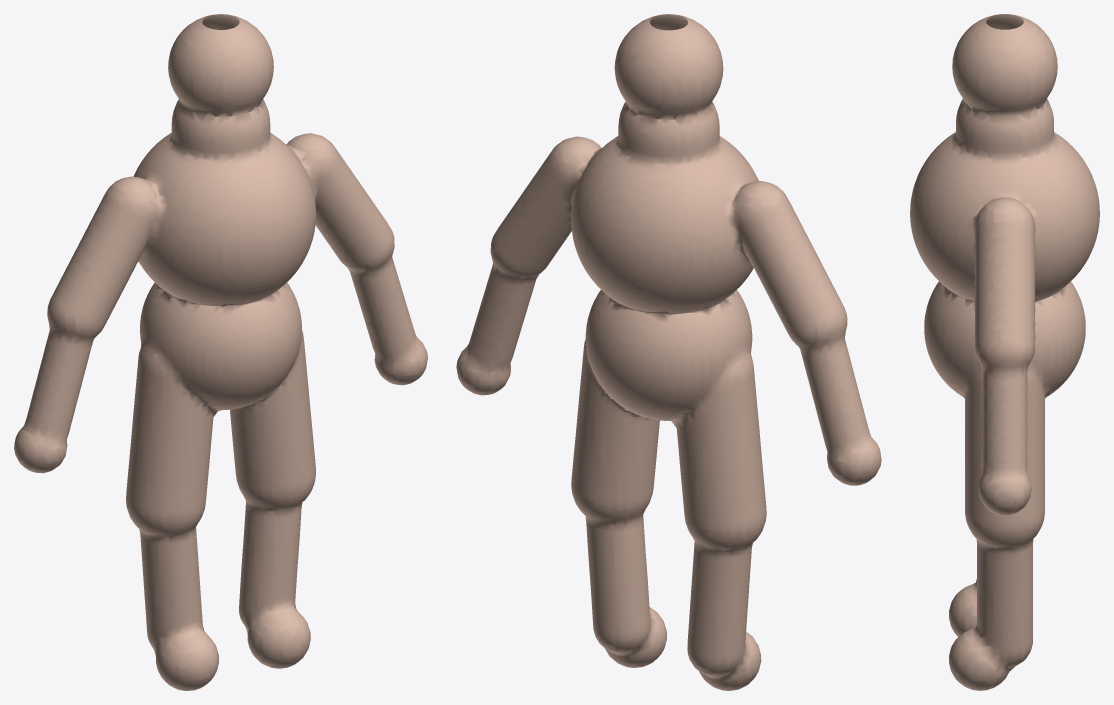
Rendered from eidolon-human-v1-canonical.glb.
3 views of the same model, side by side, from view 1: azimuth 30°, elevation 25°; view 2: azimuth 150°, elevation 25°; view 3: azimuth 270°, elevation 25° (orthographic). The views are drawn at different scales.
Parts seen in each view (by area): view 1: EIDOLON_Human_v1_Canonical_Static; view 2: EIDOLON_Human_v1_Canonical_Static; view 3: EIDOLON_Human_v1_Canonical_Static.
Boxes of the visible parts, x1,y1,x2,y2 form: EIDOLON_Human_v1_Canonical_Static: (14, 14, 427, 690); EIDOLON_Human_v1_Canonical_Static: (456, 14, 881, 690); EIDOLON_Human_v1_Canonical_Static: (910, 14, 1099, 690).
Size of the model in its own units: 0.6653 by 1.01 by 0.2698.
